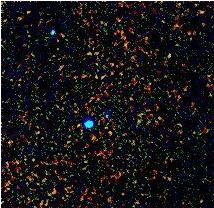star: (62, 111, 92, 141)
